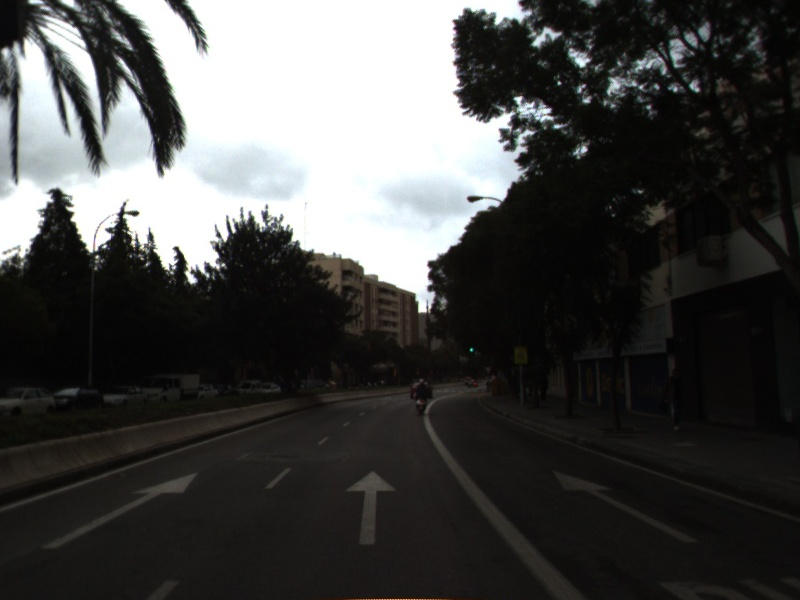STRAIGHT: (39, 469, 202, 552), (549, 467, 701, 545), (342, 467, 401, 547)
